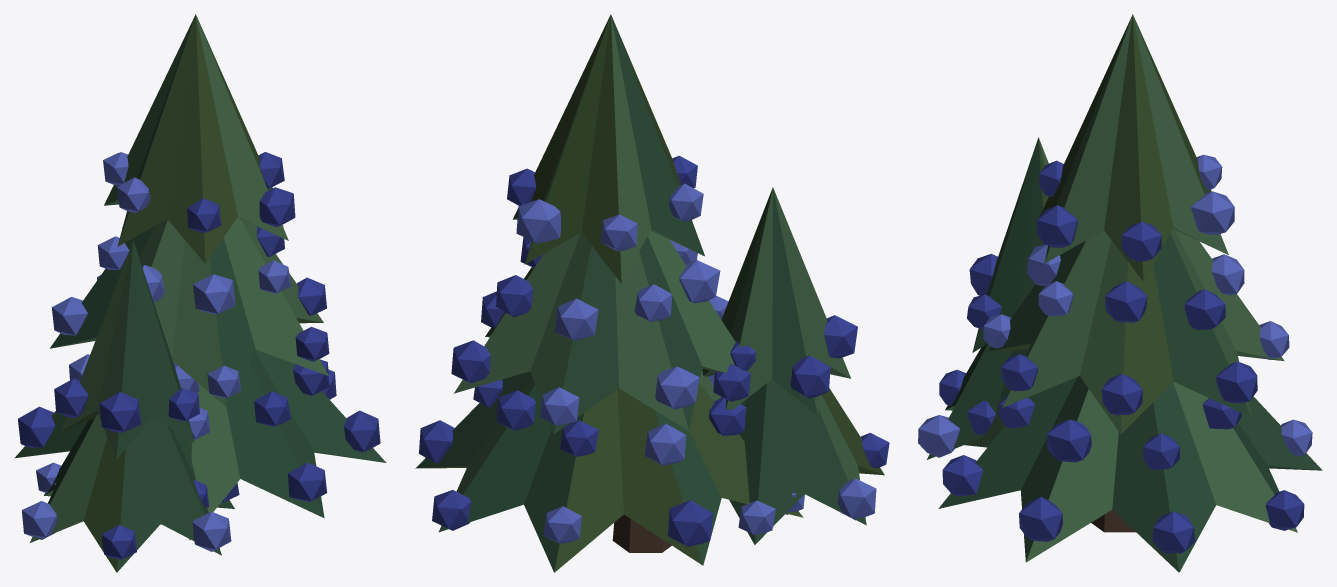
Rendered from food_bush_b.fbx.
3 renders of one model, left to right at view 1: azimuth 30°, elevation 25°; view 2: azimuth 150°, elevation 25°; view 3: azimuth 270°, elevation 25°, orthographic. The views are drawn at different scales.
Visible parts, largest first — view 1: food_bush_b; view 2: food_bush_b; view 3: food_bush_b.
Boxes of the visible parts, left/top/right/bottom form: food_bush_b: left=14, top=14, right=386, bottom=572; food_bush_b: left=415, top=14, right=889, bottom=572; food_bush_b: left=918, top=14, right=1322, bottom=572.
Size of the model in its own units: 1.11 by 1.4 by 0.9874.
